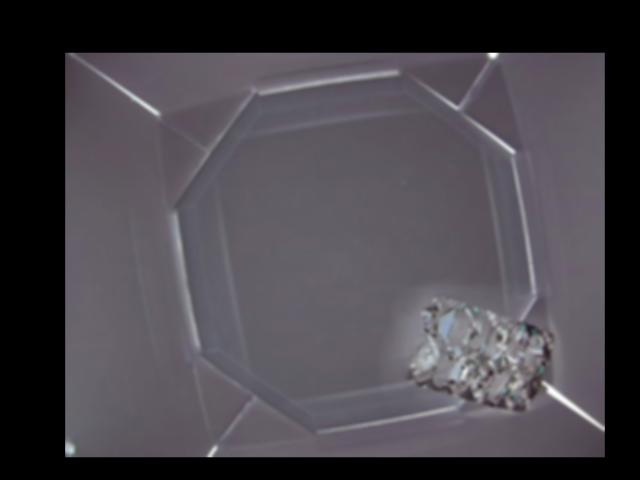Medicine: (408, 295, 553, 412)
